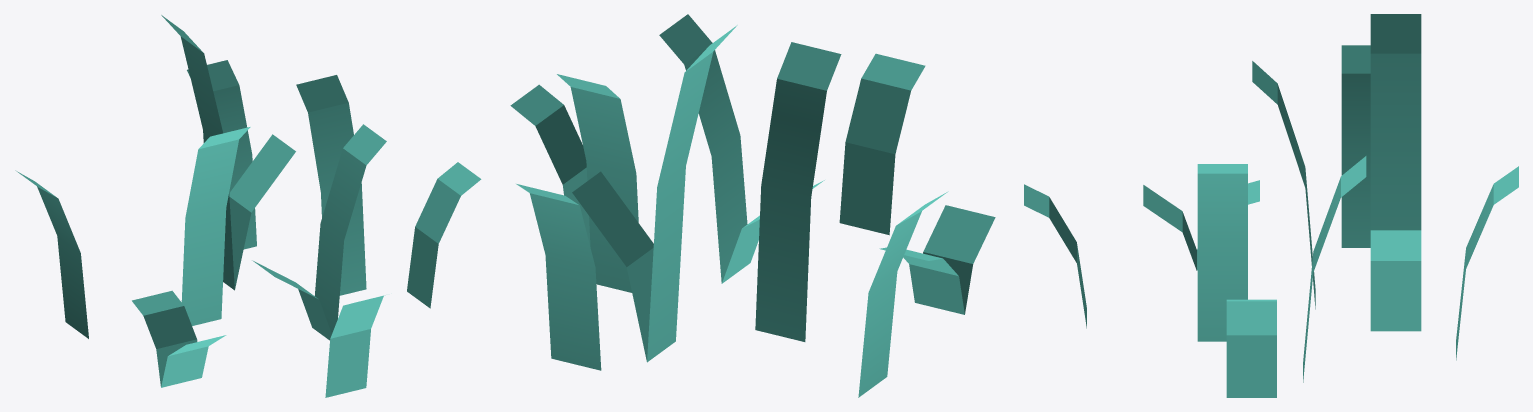
File: grass.obj
3 renders of one model, left to right at view 1: azimuth 30°, elevation 25°; view 2: azimuth 150°, elevation 25°; view 3: azimuth 270°, elevation 25°, orthographic. The views are drawn at different scales.
Visible parts, largest first — view 1: grass; view 2: grass; view 3: grass.
Part boxes in pixels (left/top/right/bottom): grass: left=15, top=15, right=481, bottom=397; grass: left=510, top=14, right=995, bottom=397; grass: left=1024, top=14, right=1518, bottom=397.
Bounding box in the file's own units: 3.81 × 2.54 × 3.92.
